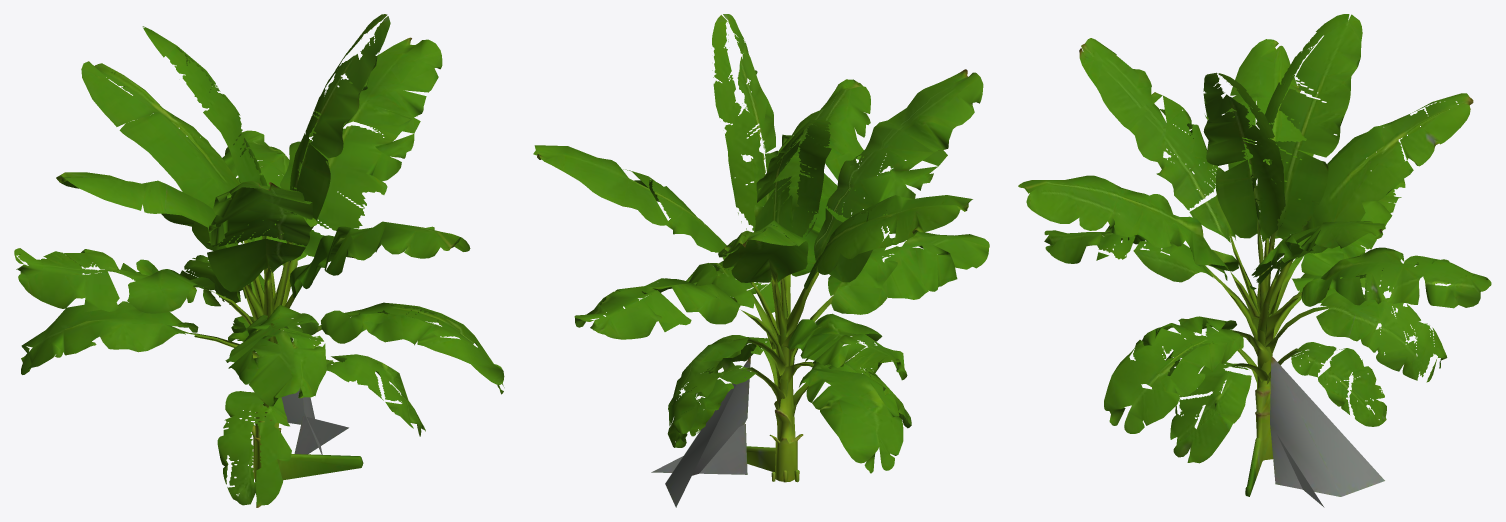
File: bananaplant_2.lite.glb
3 renders of one model, left to right at view 1: azimuth 30°, elevation 25°; view 2: azimuth 150°, elevation 25°; view 3: azimuth 270°, elevation 25°, orthographic. The views are drawn at different scales.
Parts seen in each view (by area): view 1: model; view 2: model; view 3: model.
Part boxes in pixels (left/top/right/bottom): model: left=14, top=14, right=504, bottom=507; model: left=533, top=14, right=989, bottom=507; model: left=1018, top=14, right=1491, bottom=507.
Size of the model in its own units: 0.9644 by 0.9976 by 0.9995.
Materials: 2 (2 with a texture image).
